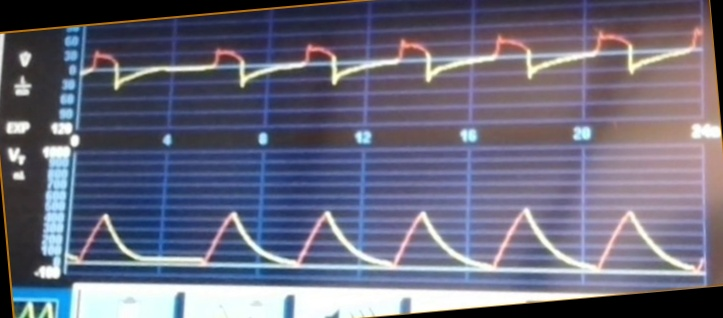Normal Flow: (85, 26, 704, 110)
Normal Volume: (70, 192, 706, 281)
